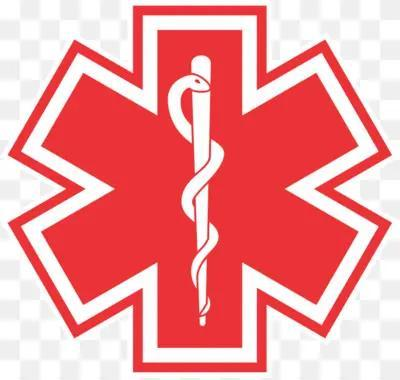Ambulance: (3, 6, 394, 378)
